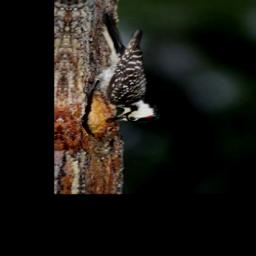Woodpecker: (80, 11, 173, 126)
